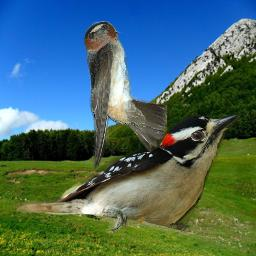Swallow: (83, 21, 167, 171)
Woodpecker: (16, 107, 242, 235)
